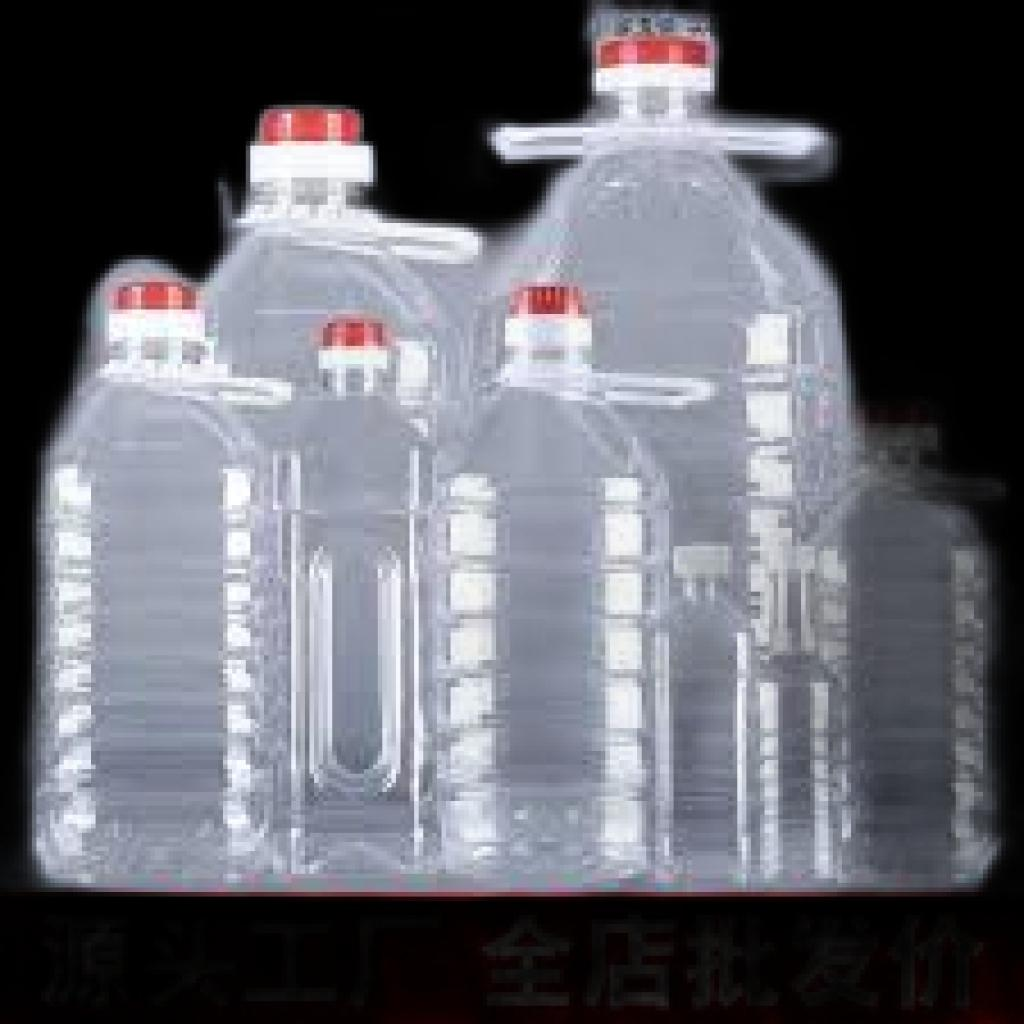plastic: (461, 4, 885, 931), (172, 102, 509, 876), (405, 276, 695, 900), (27, 256, 293, 891), (734, 418, 1004, 904)
